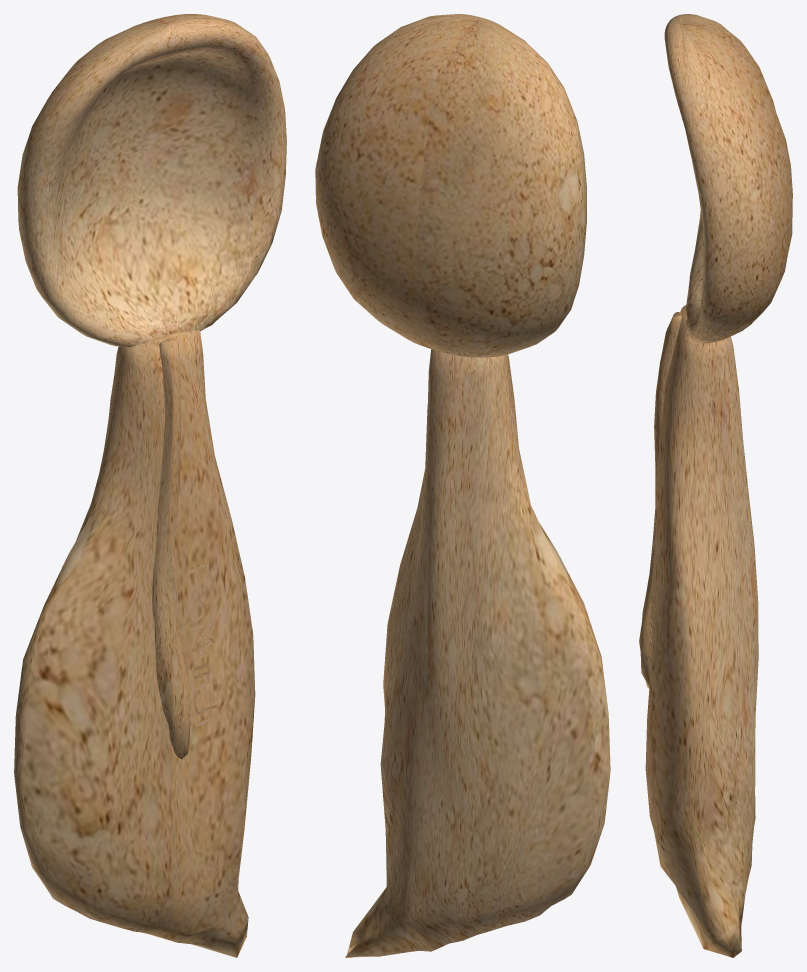
File: spoon.glb
The picture shows the model from 3 angles, left to right: view 1: azimuth 30°, elevation 25°; view 2: azimuth 150°, elevation 25°; view 3: azimuth 270°, elevation 25°; orthographic projection. The views are drawn at different scales.
Visible parts, largest first — view 1: Head.002, Text.001; view 2: Head.002; view 3: Head.002, Text.001.
Boxes of the visible parts, x1,y1,x2,y2 form: Head.002: (14, 14, 286, 957); Text.001: (186, 563, 216, 726); Head.002: (315, 14, 610, 957); Head.002: (639, 14, 792, 957); Text.001: (648, 522, 658, 672).
Size of the model in its own units: 1.74 by 5.71 by 0.8966.
Materials: 2 (2 with a texture image).
